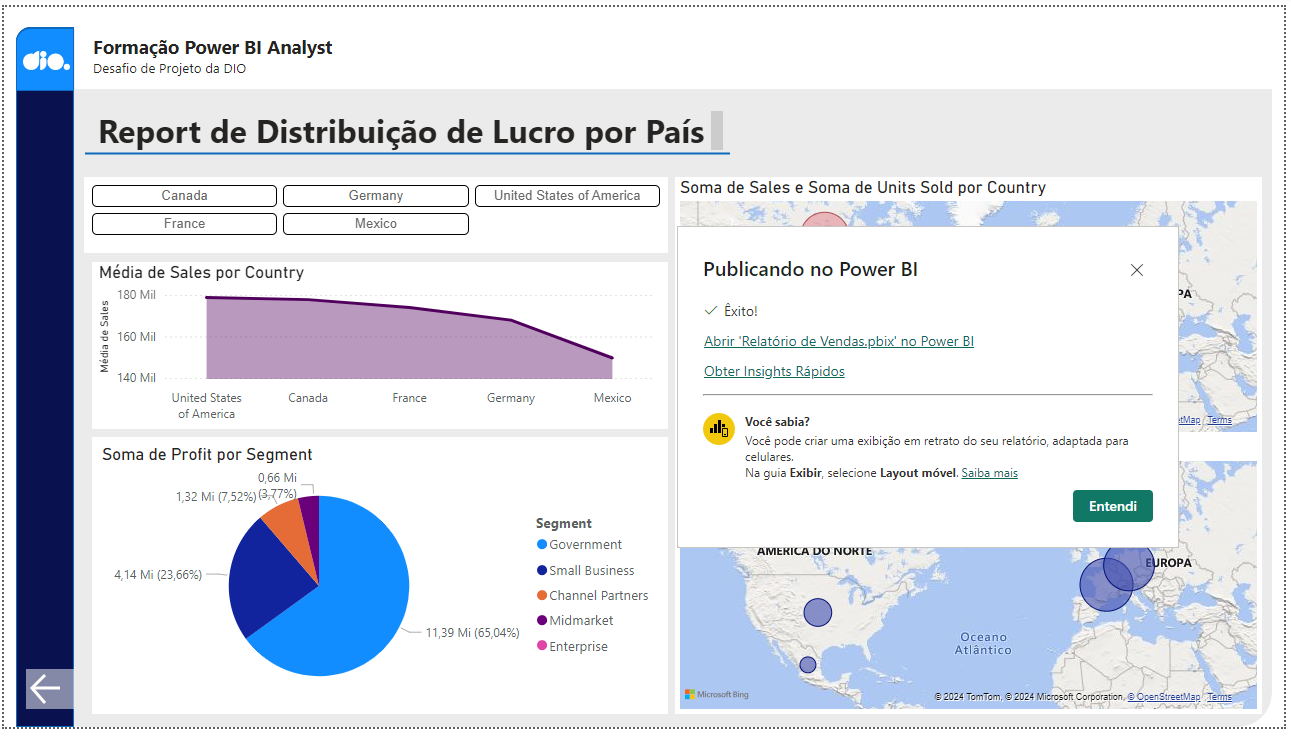

This screenshot's page, from the dashboard's own definition file:
{"tool":"powerbi","page":{"name":"Página 3","canvas":[1280,720],"ordinal":2},"visuals":[{"type":"shape","box":[42.6,20.7,1225.3,699.3],"z":0},{"type":"shape","box":[81,127.9,644.6,37.2],"z":0,"group":"g1"},{"type":"textbox","box":[89,96,630.4,54.1],"z":1000,"group":"g1"},{"type":"shape","box":[12.4,20.2,57.7,699.8],"z":1000},{"type":"shape","box":[12.4,20.6,57.7,63.2],"z":2000},{"type":"image","box":[13.7,33,57.7,39.9],"z":3000},{"type":"shape","title":"Fundo do Título","box":[71.5,20.6,1198.9,61.9],"z":4000},{"type":"textbox","title":"Título do report","box":[83.9,22,378.1,63.2],"z":5000},{"type":"shape","box":[88,430,576,277],"z":6000},{"type":"ChicletSlicer1448559807354","fields":{"Category":["financials.Country"]},"box":[80,170,584,76],"z":7000},{"type":"actionButton","box":[22,662,48,40],"z":8000},{"type":"group","id":"g1","title":"Sales report","box":[81,96,644.6,69.2],"z":9000},{"type":"shape","box":[706.7,103.7,12.4,39],"z":11000},{"type":"pieChart","fields":{"Category":["financials.Segment"],"Y":["Sum(financials.Profit)"]},"box":[93,437,566,265],"z":12000},{"type":"map","fields":{"Category":["financials.Country"],"Size":["Sum(financials. Sales)"]},"box":[671,170,587,260],"z":13000},{"type":"map","fields":{"Category":["financials.Country"],"Size":["Sum(financials.Profit)"]},"box":[671,430,587,277],"z":14000},{"type":"shape","box":[88,255,576,167],"z":15000},{"type":"areaChart","fields":{"Category":["financials.Country"],"Y":["Avg(financials. Sales)"]},"box":[90,255,571,167],"z":16000}]}

Visuals, with their boxes on the page's 1280x720 design canvas (x1, y1, x2, y2). These are canvas units, not pixel positions in the 1291x737 screenshot, which may show the page scaled, cropped or inside an application window:
shape: left=43, top=21, right=1268, bottom=720
shape: left=81, top=128, right=726, bottom=165
textbox: left=89, top=96, right=719, bottom=150
shape: left=12, top=20, right=70, bottom=720
shape: left=12, top=21, right=70, bottom=84
image: left=14, top=33, right=71, bottom=73
"Fundo do Título" shape: left=72, top=21, right=1270, bottom=82
"Título do report" textbox: left=84, top=22, right=462, bottom=85
shape: left=88, top=430, right=664, bottom=707
ChicletSlicer1448559807354 - financials.Country: left=80, top=170, right=664, bottom=246
actionButton: left=22, top=662, right=70, bottom=702
"Sales report" group: left=81, top=96, right=726, bottom=165
shape: left=707, top=104, right=719, bottom=143
pieChart - financials.Segment x Sum(financials.Profit): left=93, top=437, right=659, bottom=702
map - financials.Country x Sum(financials. Sales): left=671, top=170, right=1258, bottom=430
map - financials.Country x Sum(financials.Profit): left=671, top=430, right=1258, bottom=707
shape: left=88, top=255, right=664, bottom=422
areaChart - financials.Country x Avg(financials. Sales): left=90, top=255, right=661, bottom=422
